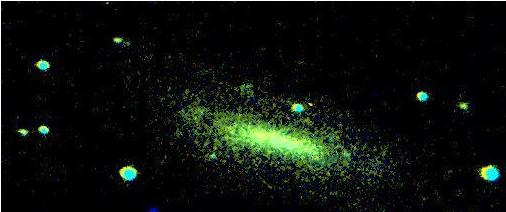star: (448, 94, 478, 124)
